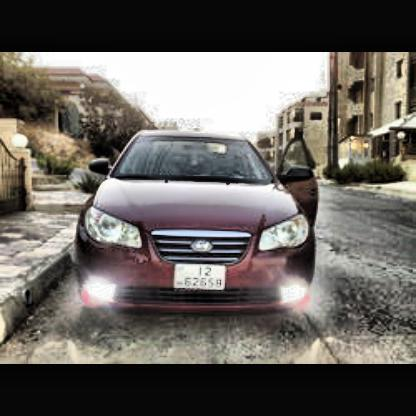Hyundai Elantra Sedan 2007: (77, 129, 321, 318)
